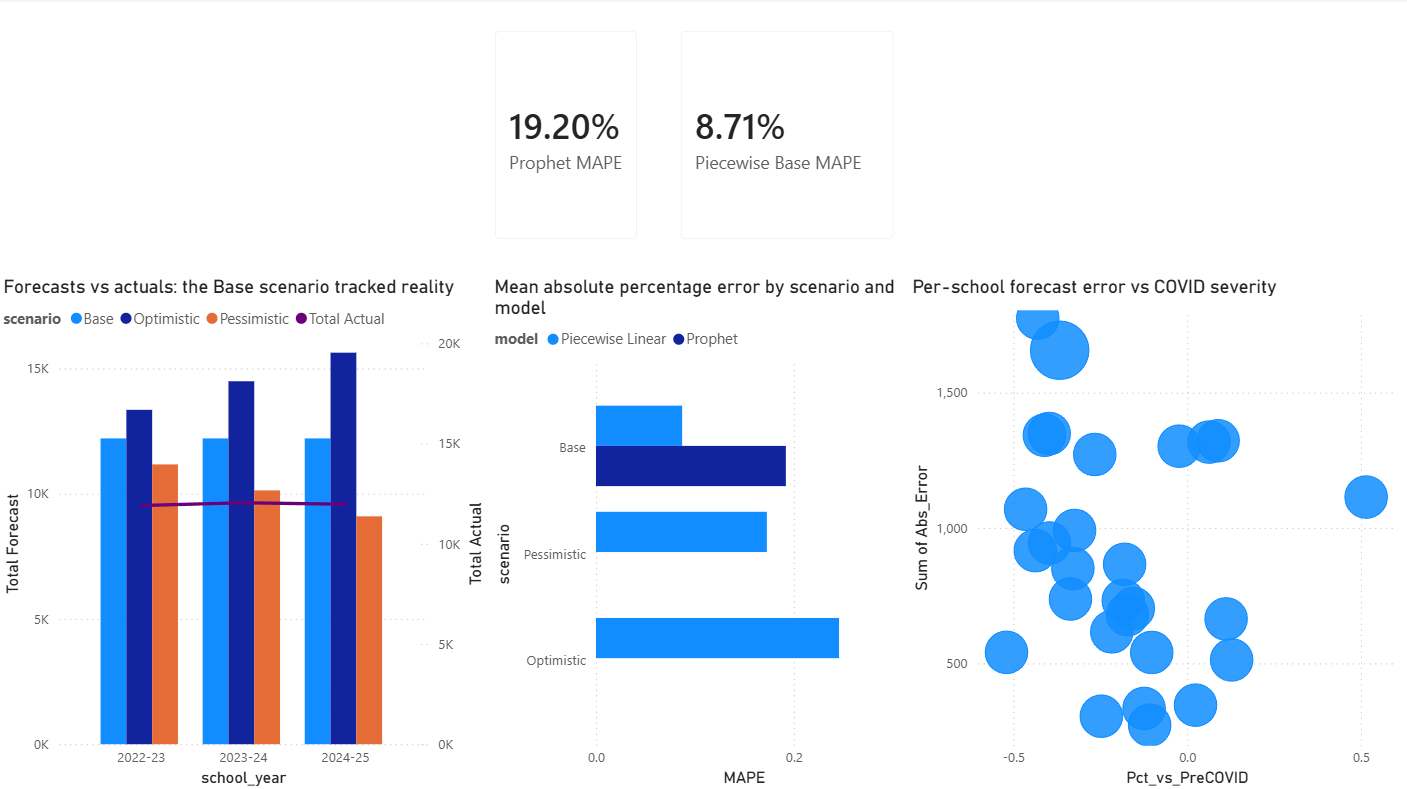

The dashboard page shown, as its layout file describes it:
{"tool":"powerbi","page":{"name":"Backtest","canvas":[1280,720],"ordinal":2},"visuals":[{"type":"clusteredBarChart","title":"Mean absolute percentage error by scenario and model","fields":{"Category":["fact_backtest.scenario"],"Y":["fact_backtest.MAPE"],"Series":["fact_backtest.model"]},"box":[445.2,251.2,379,468.8],"z":0},{"type":"lineClusteredColumnComboChart","title":"Forecasts vs actuals: the Base scenario tracked reality","fields":{"Category":["dim_year.school_year"],"Series":["fact_backtest.scenario"],"Y2":["fact_backtest.Total Actual"],"Y":["fact_backtest.Total Forecast"]},"box":[0,251.2,445.2,468.8],"z":1000},{"type":"scatterChart","title":"Per-school forecast error vs COVID severity","fields":{"X":["dim_school.Pct_vs_PreCOVID"],"Y":["Sum(fact_backtest.Abs_Error)"],"Size":["Count(dim_school.Current_Enrollment)"]},"box":[824.3,251.2,456.1,468.8],"z":2000},{"type":"cardVisual","fields":{"Data":["fact_forecasts.Prophet MAPE"]},"box":[433.5,12.7,163.2,224],"z":3000},{"type":"cardVisual","fields":{"Data":["fact_forecasts.Piecewise Base MAPE"]},"box":[602.1,12.7,227.6,224],"z":4000}]}

Visuals, with their boxes in screenshot pixels (x1, y1, x2, y2), scaled from the page's 1280x720 canvas onto the 1407x789 screenshot:
"Mean absolute percentage error by scenario and model" clusteredBarChart: 489 275 906 788
"Forecasts vs actuals: the Base scenario tracked reality" lineClusteredColumnComboChart: 0 275 489 788
"Per-school forecast error vs COVID severity" scatterChart: 906 275 1406 788
cardVisual - fact_forecasts.Prophet MAPE: 477 14 656 259
cardVisual - fact_forecasts.Piecewise Base MAPE: 662 14 912 259
